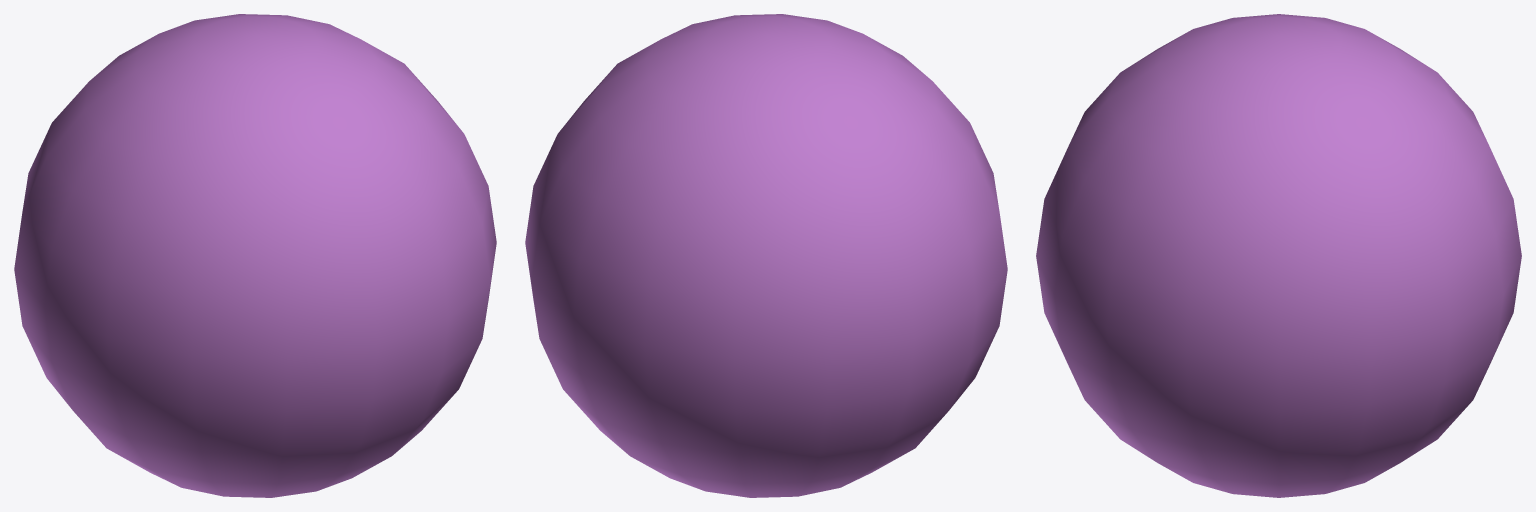
File: grapes.glb
3 views of the same model, side by side, from view 1: azimuth 30°, elevation 25°; view 2: azimuth 150°, elevation 25°; view 3: azimuth 270°, elevation 25° (orthographic).
Visible parts, largest first — view 1: Fruit; view 2: Fruit; view 3: Fruit.
Boxes of the visible parts, x1=… form: Fruit: x1=14, y1=14, x2=496, y2=497; Fruit: x1=525, y1=14, x2=1007, y2=497; Fruit: x1=1036, y1=14, x2=1521, y2=497.
Size of the model in its own units: 1 by 1 by 1.
